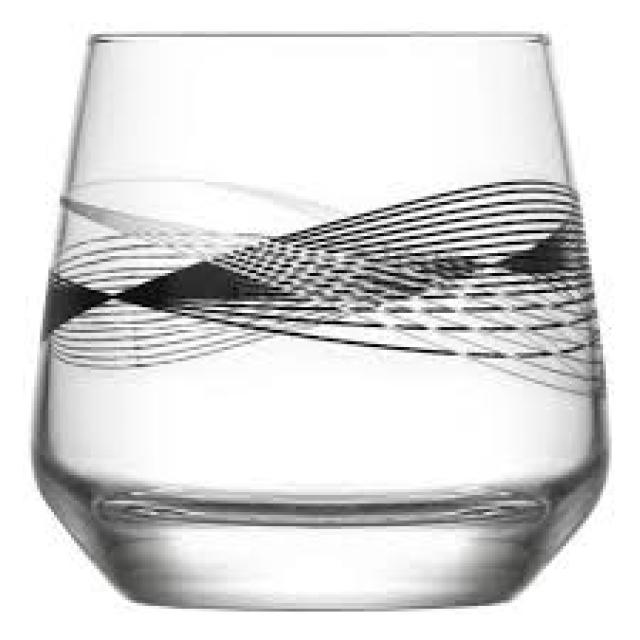Dry: (31, 30, 611, 614)
